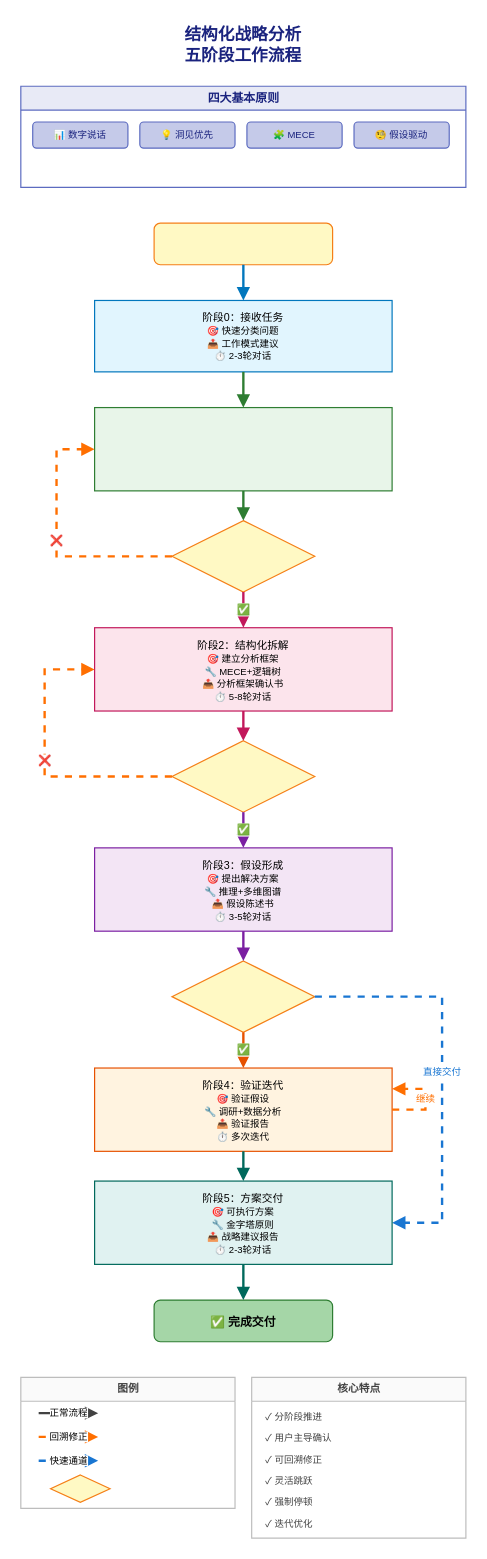
Some shapes in this 487 by 1559 pixel diagram are drawn without their labels. The centre of each missing label's shape, as x and y in pixels:
假设认可?: point 243,996
决策点: point 79,1488
框架完整?: point 243,776
用户提出需求: point 243,243
确认问题?: point 243,555
阶段1：问题诊断 🎯 明确真实问题 🔧 6要素+5WHY 📤 问题定义确认书 ⏱️ 3-5轮对话: point 242,448
